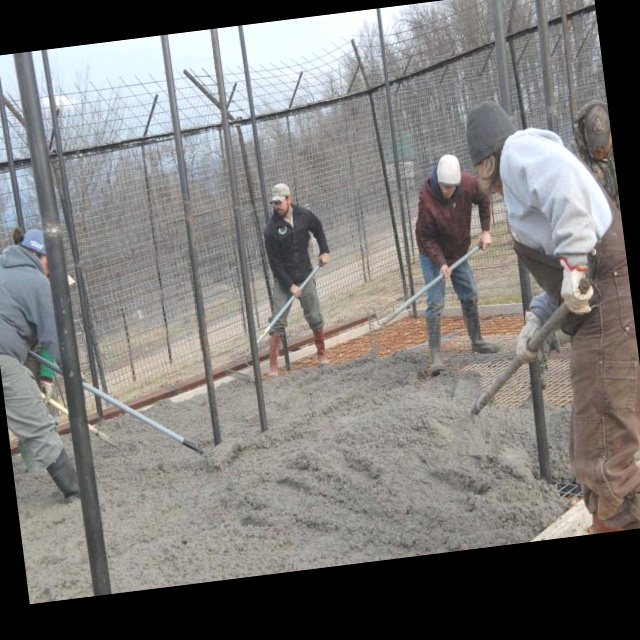Sin_Casco_Mascarrilla: (268, 181, 292, 216)
